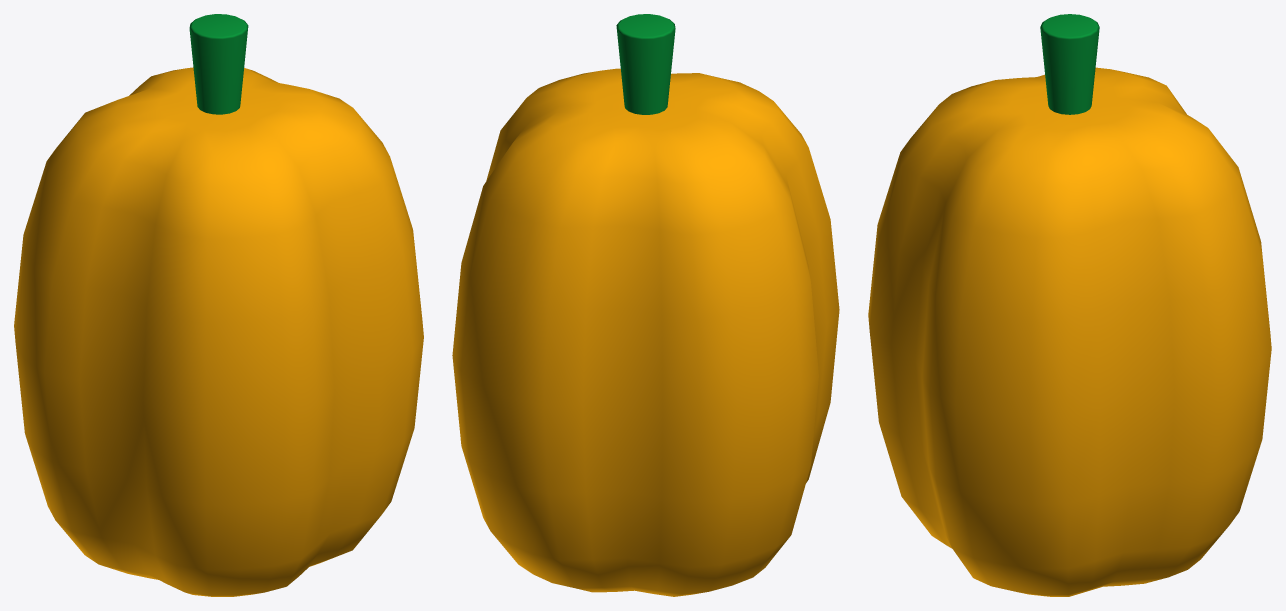
Rendered from Store_10_Pumpkin_1.glb.
3 views of the same model, side by side, from view 1: azimuth 30°, elevation 25°; view 2: azimuth 150°, elevation 25°; view 3: azimuth 270°, elevation 25° (orthographic).
Parts seen in each view (by area): view 1: Store_10_Pumpkin_1; view 2: Store_10_Pumpkin_1; view 3: Store_10_Pumpkin_1.
Part boxes in pixels (left/top/right/bottom): Store_10_Pumpkin_1: left=14, top=14, right=423, bottom=596; Store_10_Pumpkin_1: left=452, top=14, right=839, bottom=596; Store_10_Pumpkin_1: left=868, top=14, right=1271, bottom=596.
Bounding box in the file's own units: 0.25 × 0.3644 × 0.25.
Materials: 1 (1 with a texture image).
